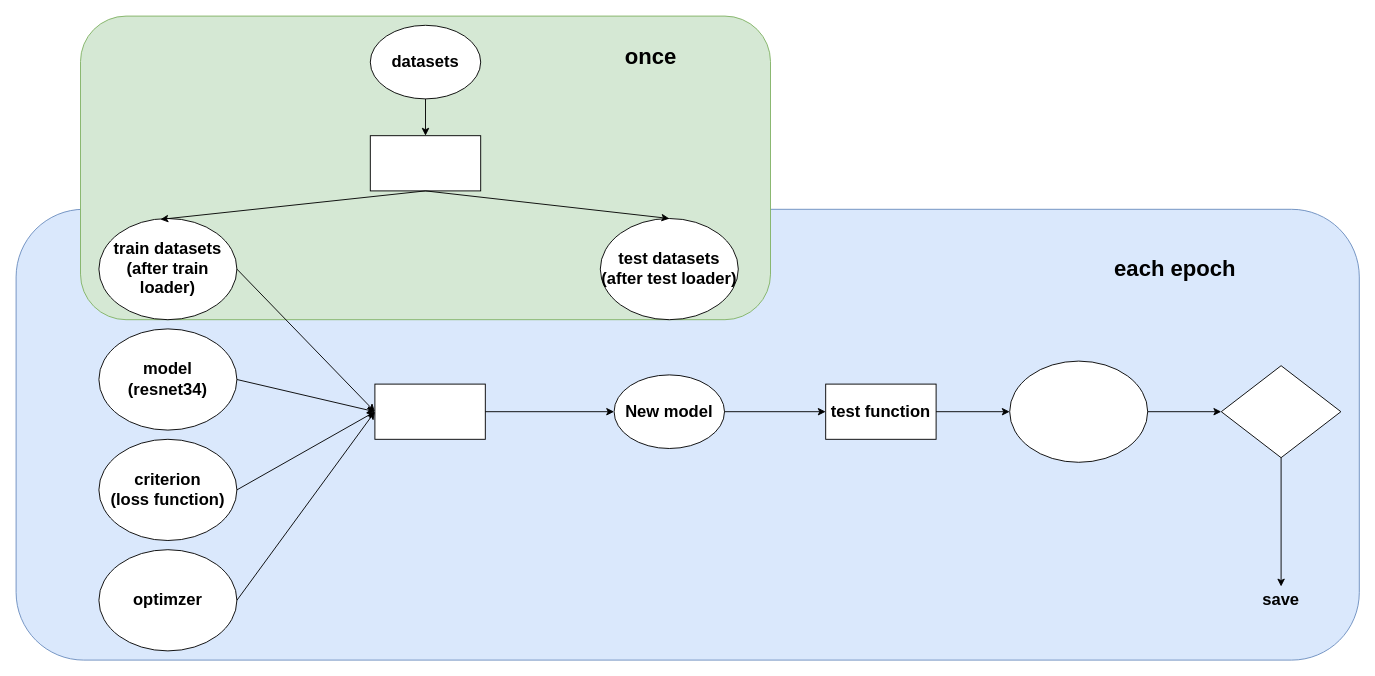
This 1375x676 diagram has some shape labels left out. The shapes that lost their labels are listed below. From the top down, each one's centre as x and y in pixels, then its label:
At [425,163]: "dataloader (CIFAR10N)".
At [429,411]: "train function".
At [1078,411]: "model accuaracy epoch number".
At [1280,411]: "better than last one?".
